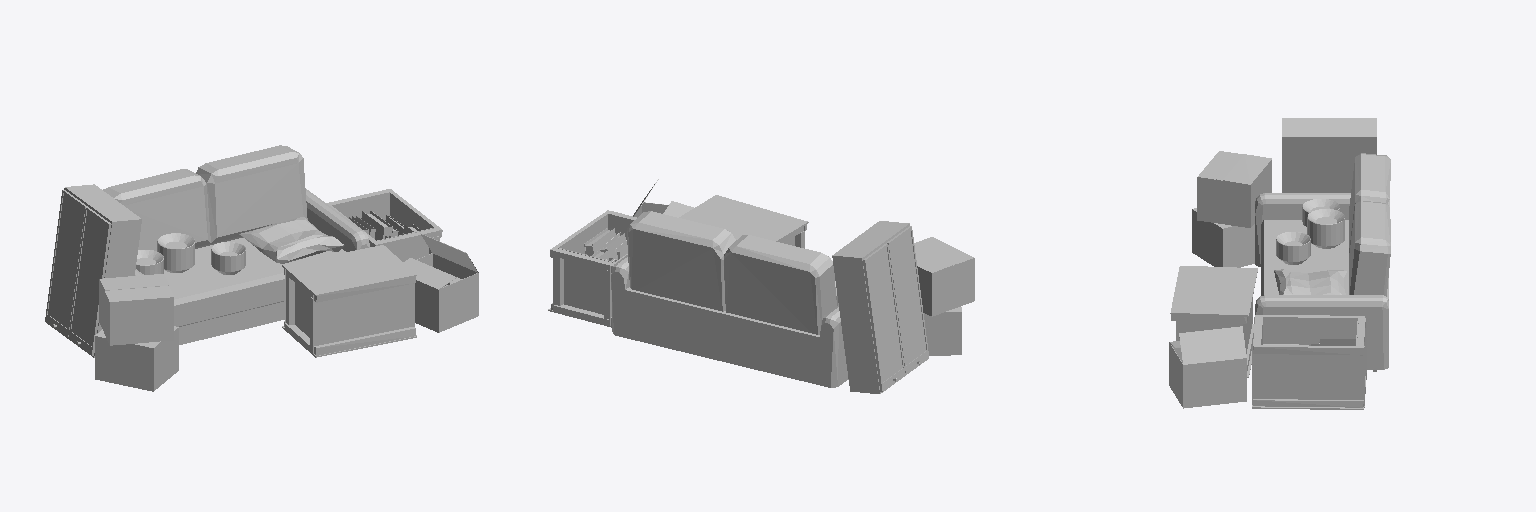
Rendered from Joined03.obj.
3 views of the same model, side by side, from view 1: azimuth 30°, elevation 25°; view 2: azimuth 150°, elevation 25°; view 3: azimuth 270°, elevation 25° (orthographic).
Visible parts, largest first — view 1: Joined03_LOD0_Cube.035; view 2: Joined03_LOD0_Cube.035; view 3: Joined03_LOD0_Cube.035.
Boxes of the visible parts, x1=… form: Joined03_LOD0_Cube.035: x1=45, y1=145, x2=478, y2=391; Joined03_LOD0_Cube.035: x1=548, y1=179, x2=974, y2=393; Joined03_LOD0_Cube.035: x1=1169, y1=118, x2=1390, y2=409.
Bounding box in the file's own units: 2.94 × 1.08 × 1.59.